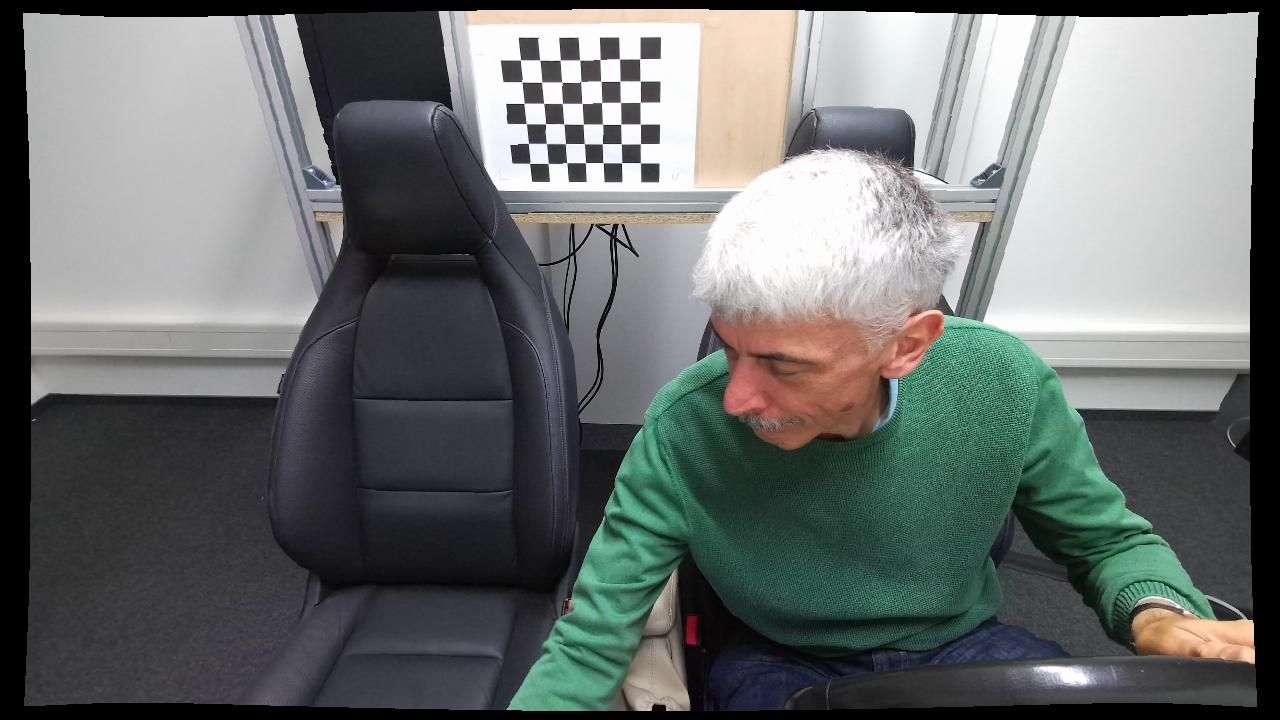Distracted: (508, 148, 1124, 714)
